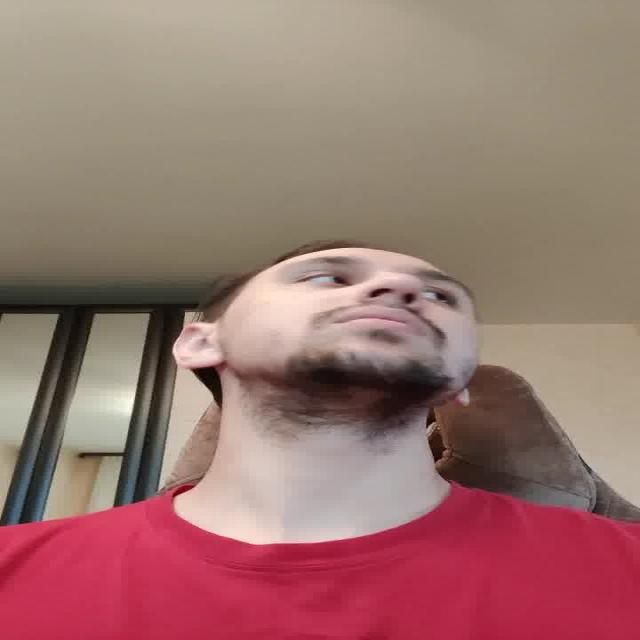earlobe: (192, 356, 226, 369), (452, 391, 471, 407)
eye: (298, 271, 350, 287), (421, 286, 455, 306)
nose: (362, 289, 420, 310)
wholeear: (174, 321, 226, 370)
